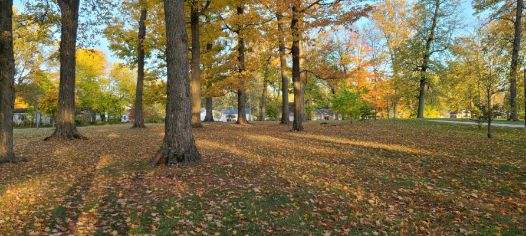tree: (152, 1, 201, 167), (49, 1, 82, 139), (1, 1, 23, 162), (417, 1, 443, 119), (132, 1, 149, 129), (291, 1, 307, 135), (509, 1, 524, 121), (236, 1, 250, 124), (276, 1, 290, 124), (191, 1, 203, 127), (205, 1, 213, 121), (486, 77, 496, 137)
